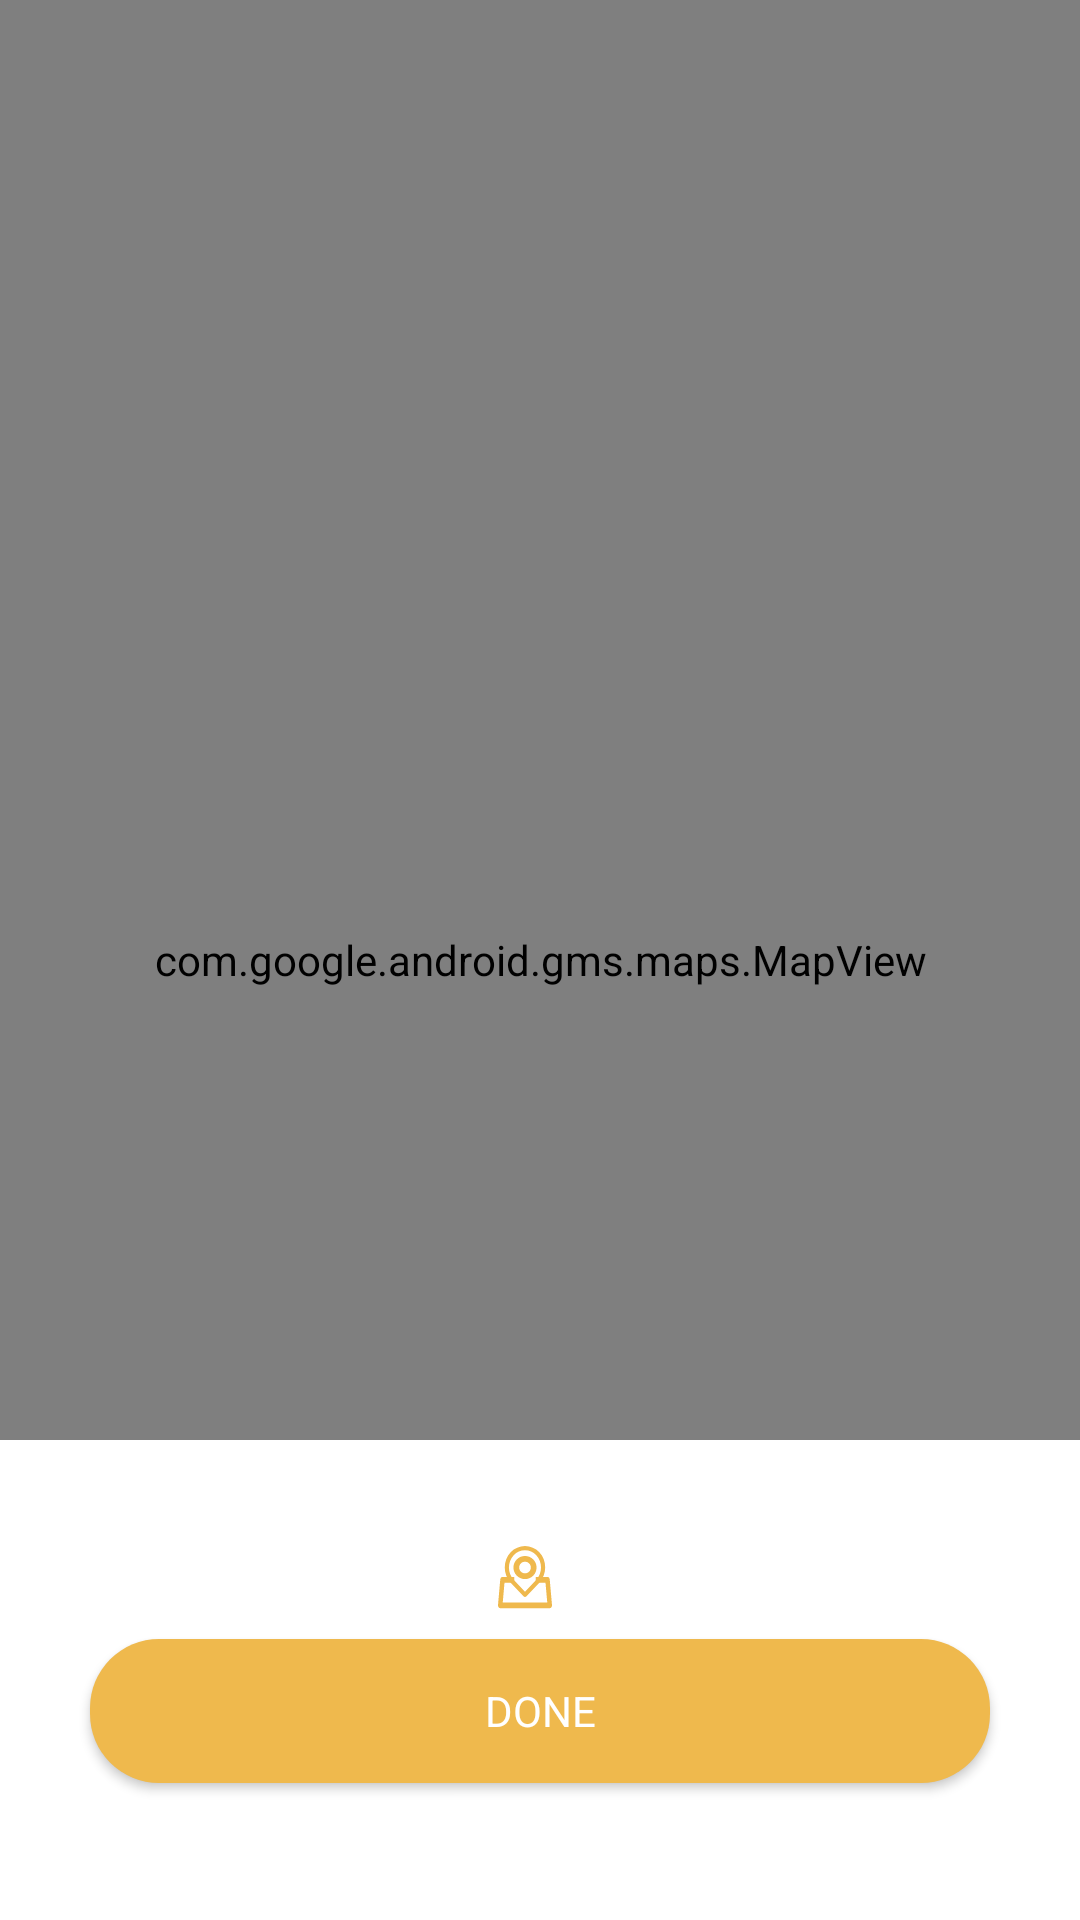

Where icons sit on this 1080w x 1920h app screen, as [left=x1, top=y1, right=x2, bottom=y2]:
locate: [left=498, top=1546, right=552, bottom=1609]
